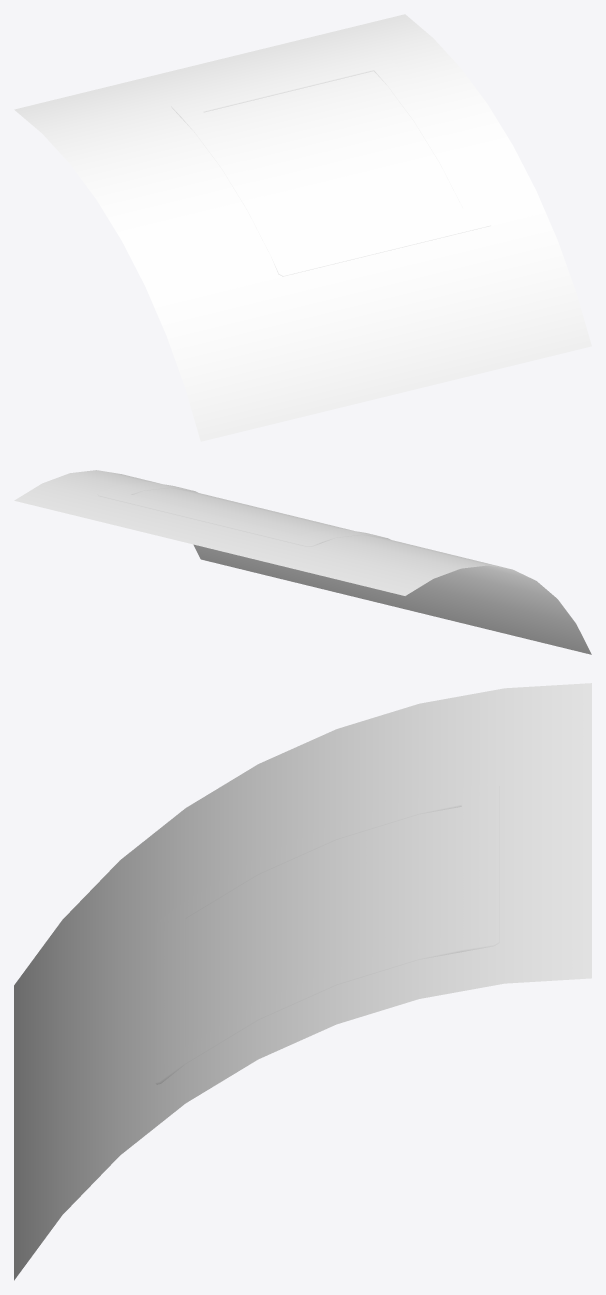
The model's file is grd_F_F_1.dae.
The picture shows the model from 3 angles, top to bottom: view 1: azimuth 30°, elevation 25°; view 2: azimuth 150°, elevation 25°; view 3: azimuth 270°, elevation 25°; orthographic projection. The views are drawn at different scales.
Parts seen in each view (by area): view 1: grass_1_0, bricks1_0_0; view 2: grass_1_0, bricks1_0_0; view 3: grass_1_0, bricks1_0_0.
Boxes of the visible parts, x1,y1,x2,y2 form: grass_1_0: (14,14,591,441); bricks1_0_0: (171,52,492,276); grass_1_0: (14,470,591,654); bricks1_0_0: (97,482,390,546); grass_1_0: (14,683,591,1280); bricks1_0_0: (155,783,499,1084).
Bounding box in the file's own units: 512 × 244 × 423.
Materials: 2 (1 with a texture image).
